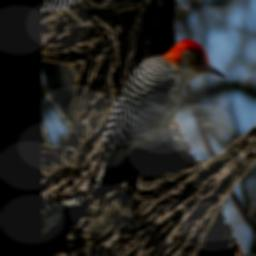Woodpecker: (61, 9, 234, 216)
